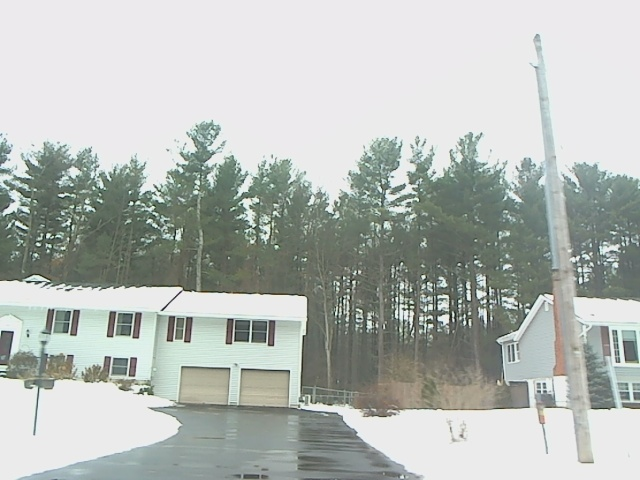Ploughed: (130, 399, 364, 480)
